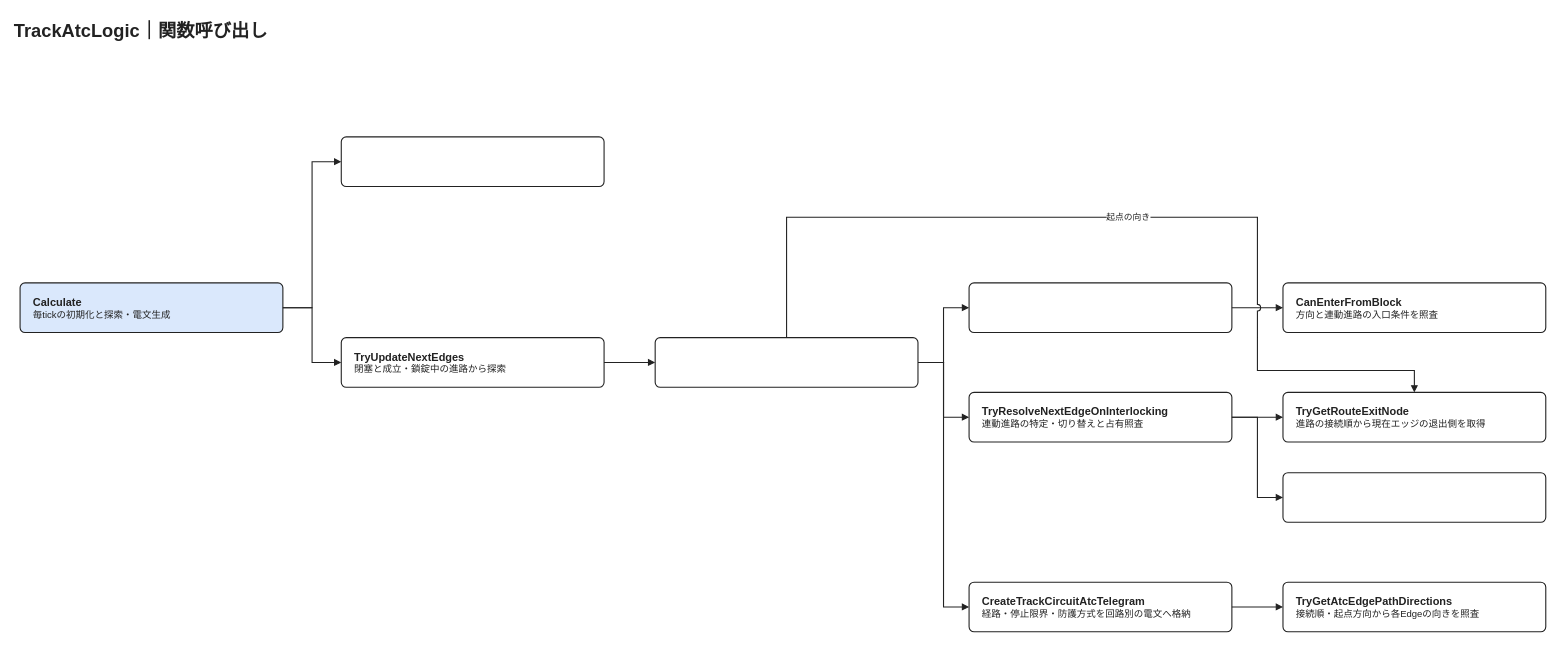
Some shapes in this 1559 by 645 pixel diagram are drawn without their labels. Here are the shapes that lost their labels. From the top down, the centre of each, then its label:
[472,161]: TryInitialize Graphを照査し、探索用の辞書を作成
[1100,307]: TryResolveNextEdgeOnBlock 閉塞の接続先・進路の選択と占有照査
[786,362]: CalculateNextEdge 採用済み進路を引き継ぎ、経路と防護方式を取得
[1414,497]: TryResolveExitBlock 退出先Blockの選択・方向と占有の照査
